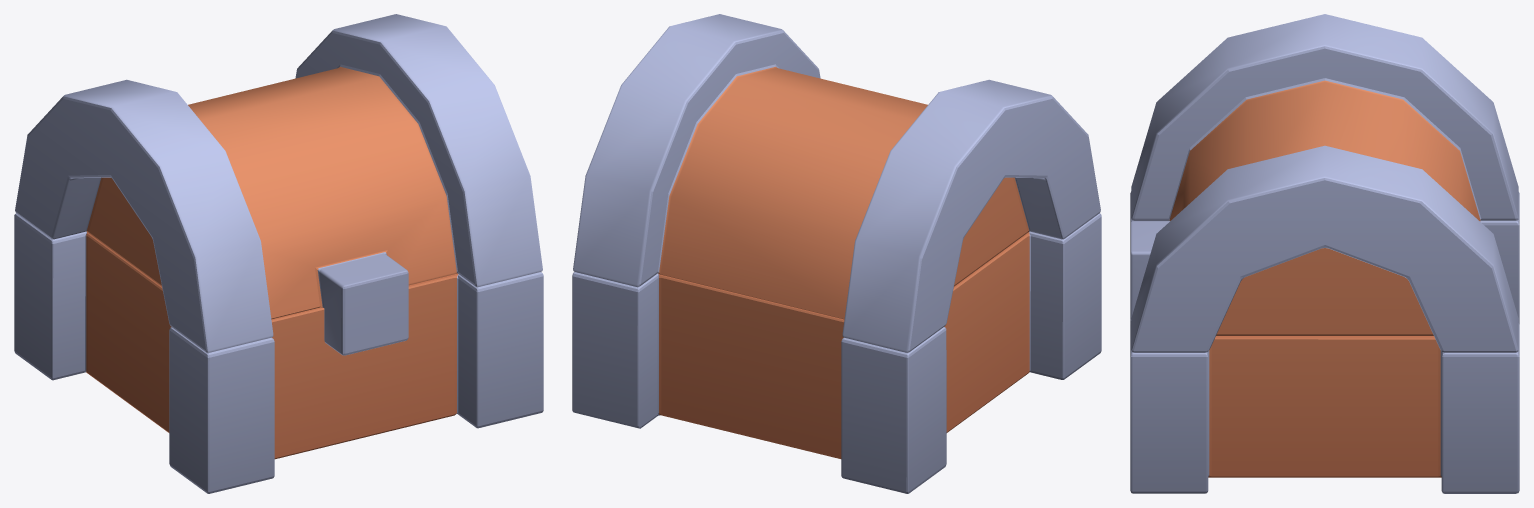
Rendered from kenney-platformer.glb.
The picture shows the model from 3 angles, left to right: view 1: azimuth 30°, elevation 25°; view 2: azimuth 150°, elevation 25°; view 3: azimuth 270°, elevation 25°; orthographic projection.
Visible parts, largest first — view 1: lid, chest; view 2: lid, chest; view 3: lid, chest.
Part boxes in pixels (x1,y1,x2,y2): lid: (15, 14, 542, 355); chest: (14, 213, 543, 493); lid: (573, 14, 1100, 352); chest: (572, 213, 1101, 493); lid: (1130, 14, 1518, 352); chest: (1130, 191, 1519, 493).
Bounding box in the file's own units: 0.5 × 0.45 × 0.5.
Materials: 1 (1 with a texture image).
